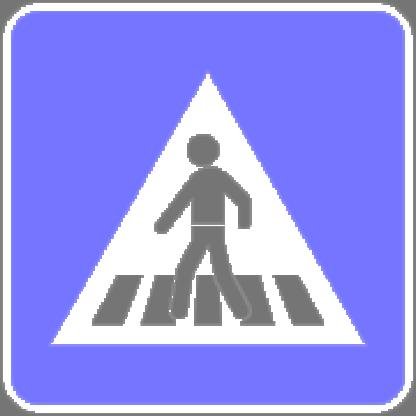Pedestrian Crossing: (63, 69, 374, 374)
